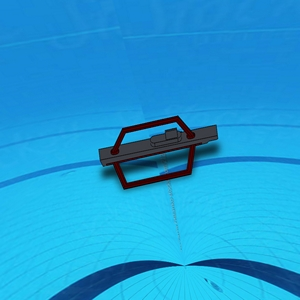submarine: (96, 115, 222, 190)
